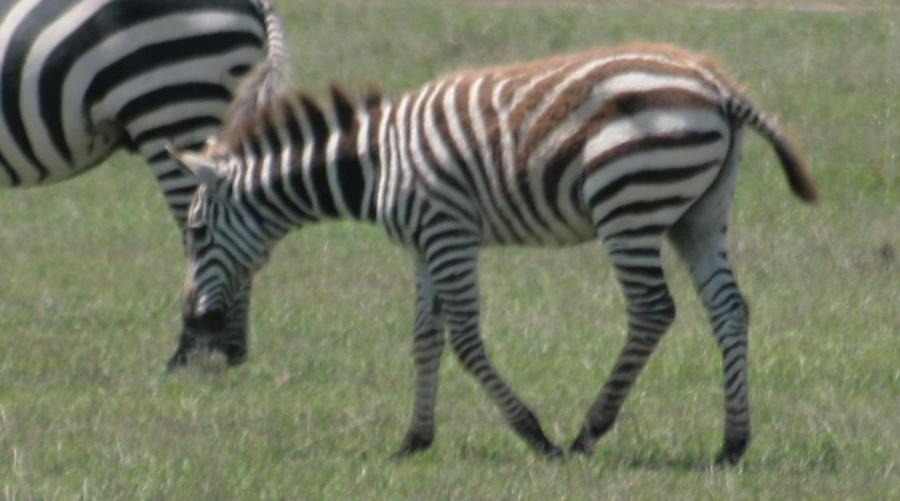zebra_plains: (309, 16, 749, 329)
